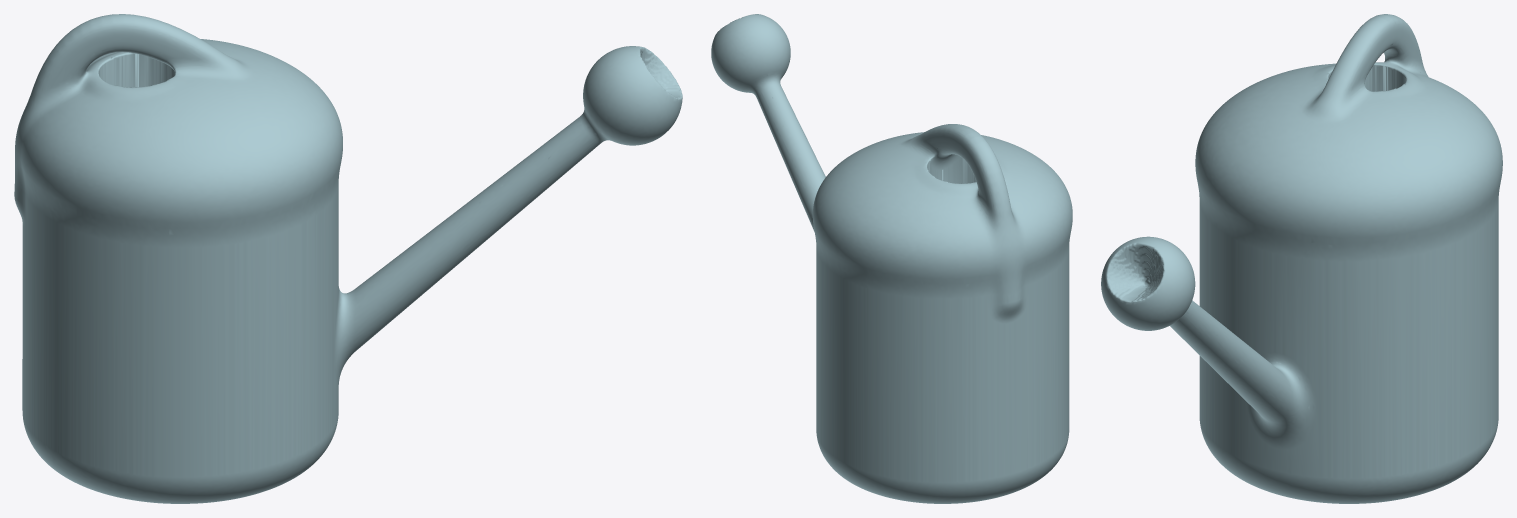
The model's file is airdrop.glb.
The picture shows the model from 3 angles, left to right: view 1: azimuth 30°, elevation 25°; view 2: azimuth 150°, elevation 25°; view 3: azimuth 270°, elevation 25°; orthographic projection. The views are drawn at different scales.
Visible parts, largest first — view 1: ad-can; view 2: ad-can; view 3: ad-can.
Boxes of the visible parts, x1,y1,x2,y2 form: ad-can: [14, 14, 682, 503]; ad-can: [711, 14, 1072, 503]; ad-can: [1101, 14, 1502, 503].
Size of the model in its own units: 0.209 by 0.1644 by 0.145.
